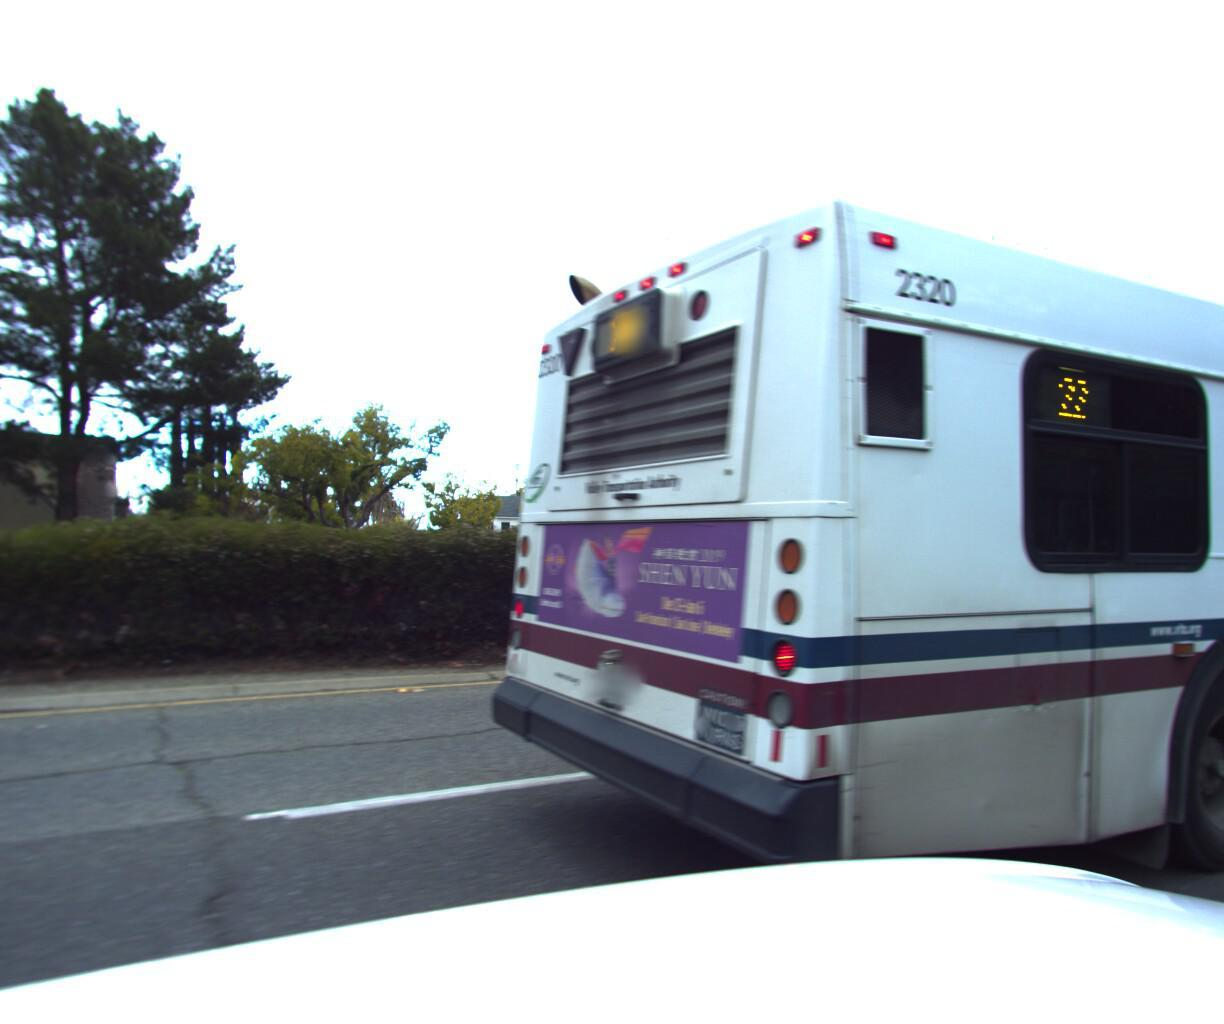bus: (427, 0, 1224, 1024)
